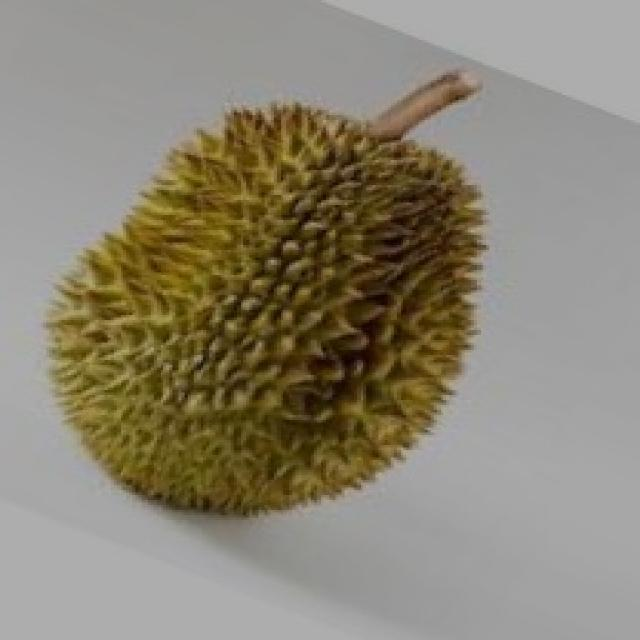fruit: (6, 200, 379, 560)
